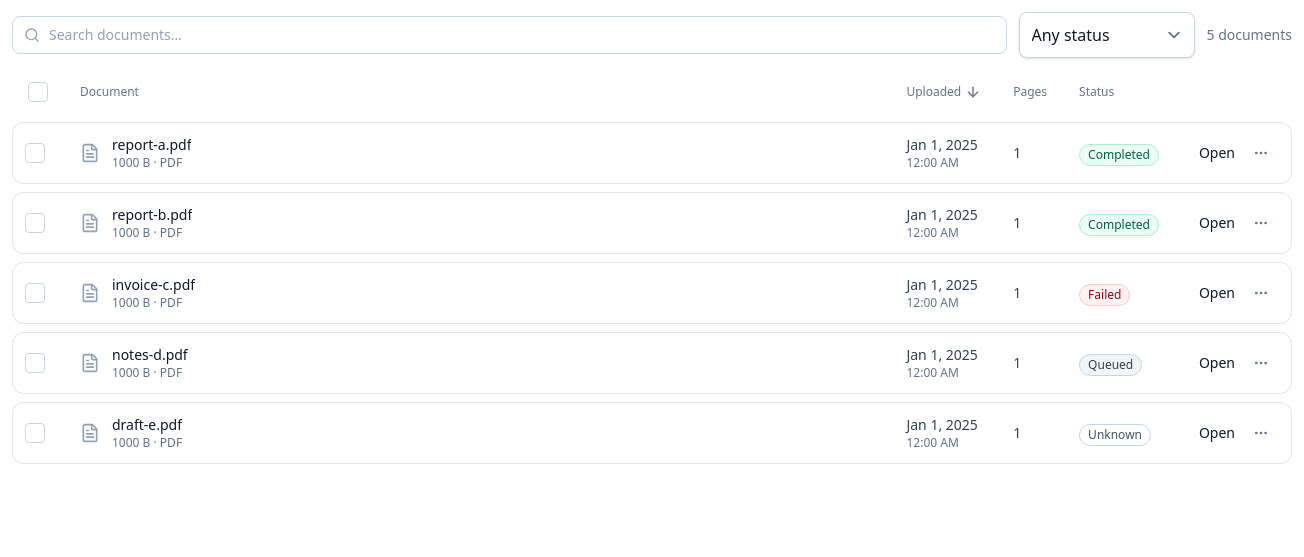
the select-all header checkbox selects every visible row
What coordinates should you click on to do the following:
click the checkbox named "Select all documents"
I would click on:
 (38, 92)
Its box is [28,82,48,102].
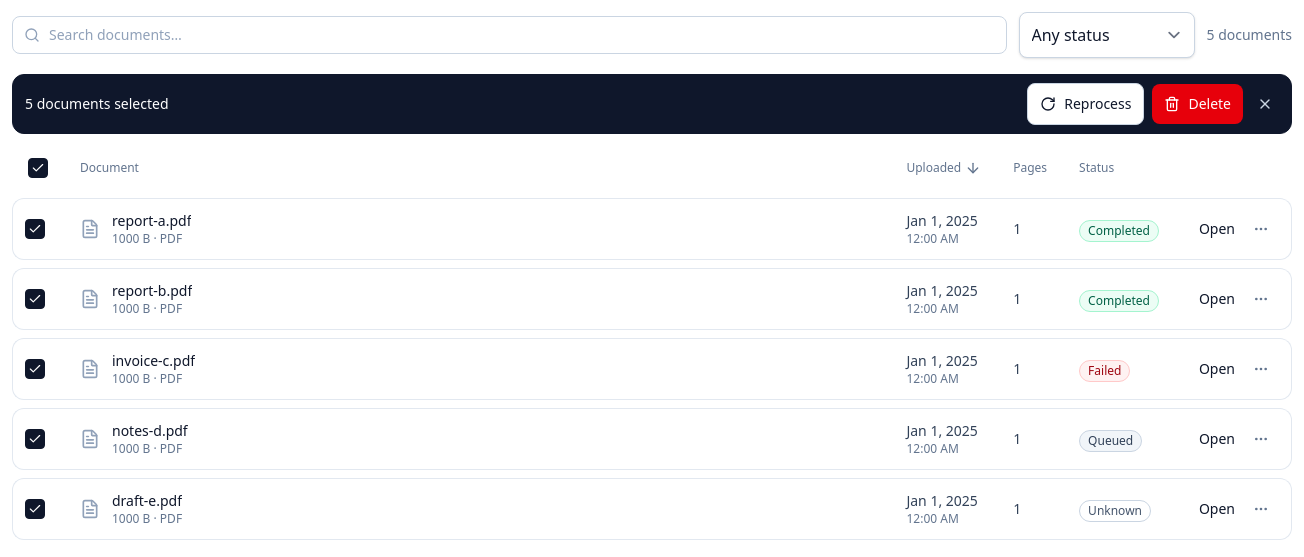
Expected: the text "5 documents selected" is shown, [25,94,168,114]
